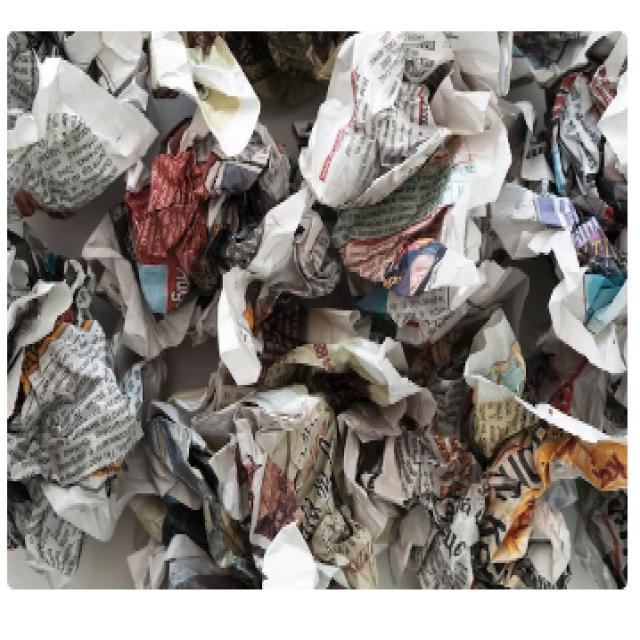Koran: (7, 29, 626, 587)
